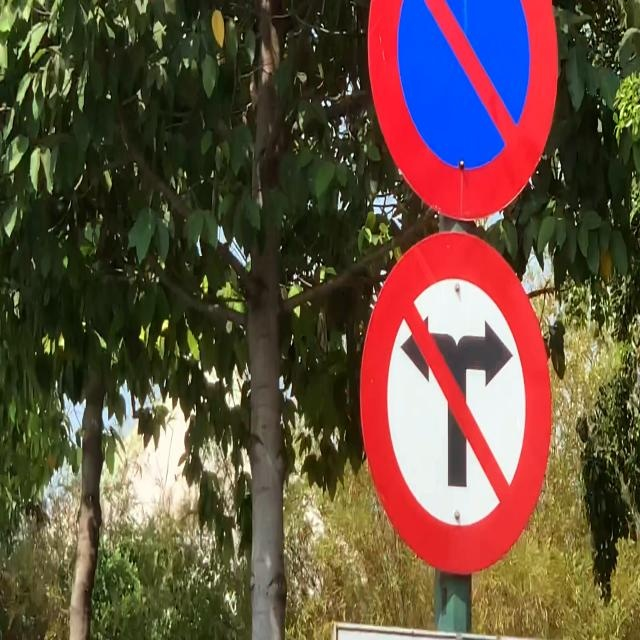bien_cam: (347, 220, 564, 578), (354, 0, 566, 222)
